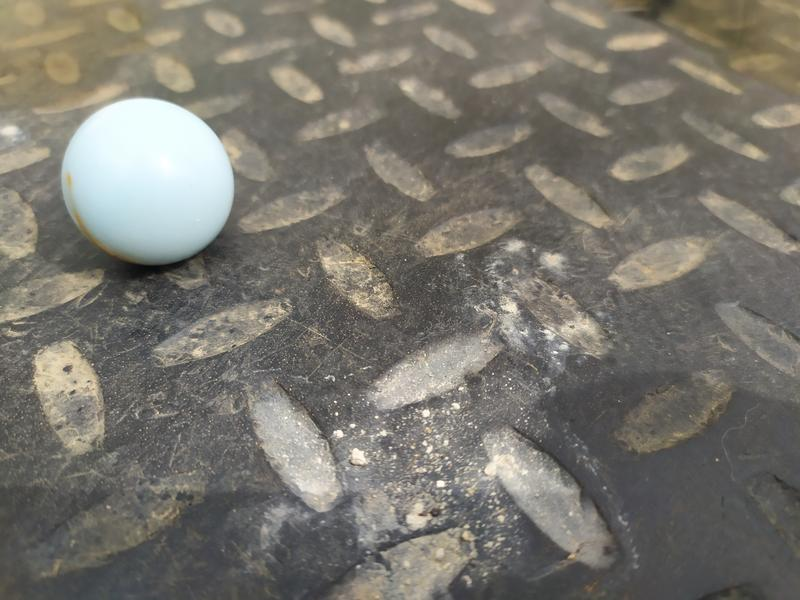Warning: (53, 91, 242, 272)
